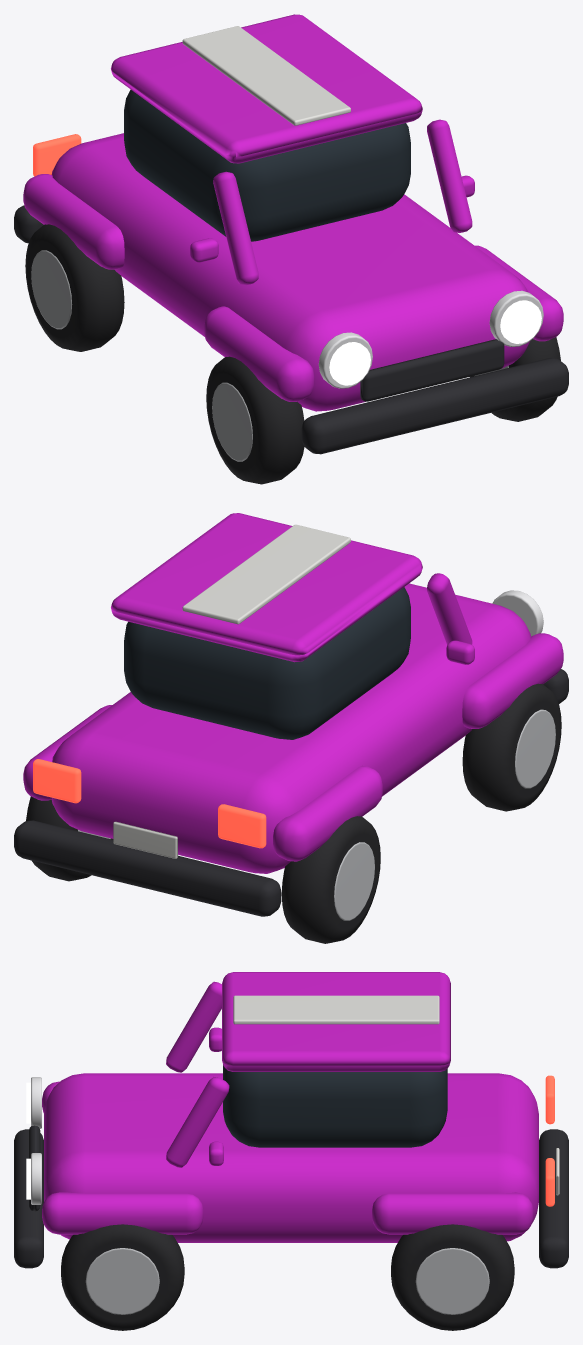
Rendered from car-high.glb.
The picture shows the model from 3 angles, top to bottom: view 1: azimuth 30°, elevation 25°; view 2: azimuth 150°, elevation 25°; view 3: azimuth 270°, elevation 25°; orthographic projection. The views are drawn at different scales.
Parts seen in each view (by area): view 1: w-1-0.9; view 2: w-1-0.9; view 3: w-1-0.9.
Part boxes in pixels (box(x1,y1,x2,y2)): w-1-0.9: box(14, 14, 568, 484); w-1-0.9: box(14, 513, 568, 943); w-1-0.9: box(14, 972, 568, 1330).
Size of the model in its own units: 1.71 by 1.54 by 2.96.
